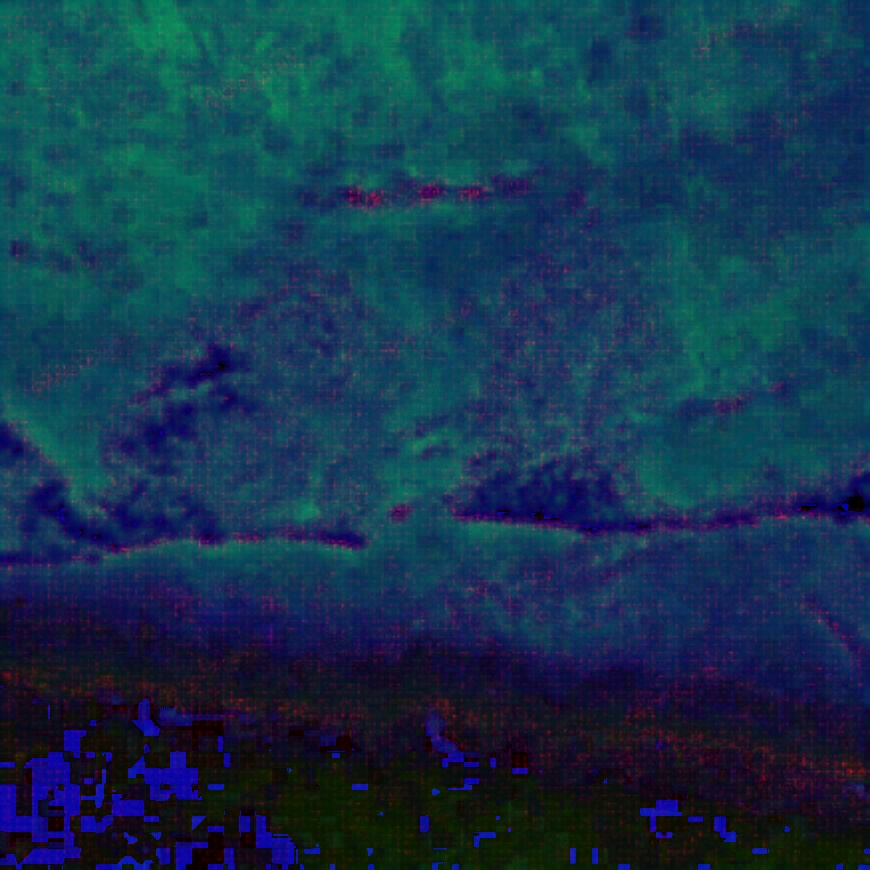rip_current: (281, 195, 532, 544)
